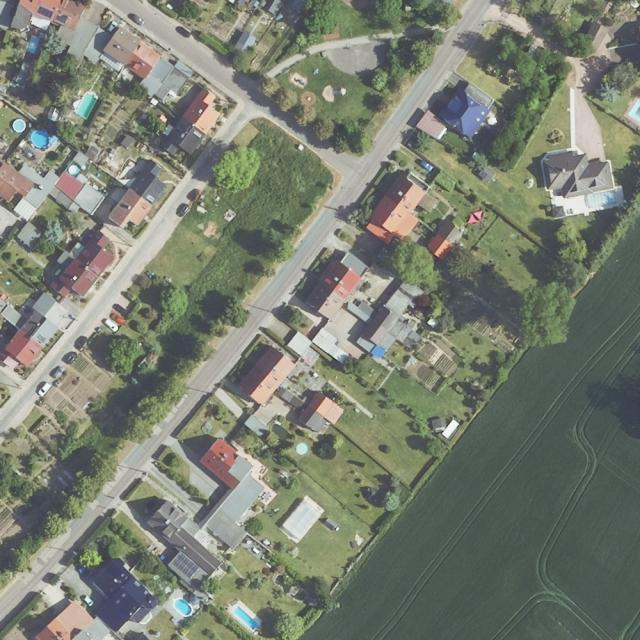PV: (171, 553, 199, 579)
ST: (37, 5, 54, 18), (55, 14, 67, 24)
